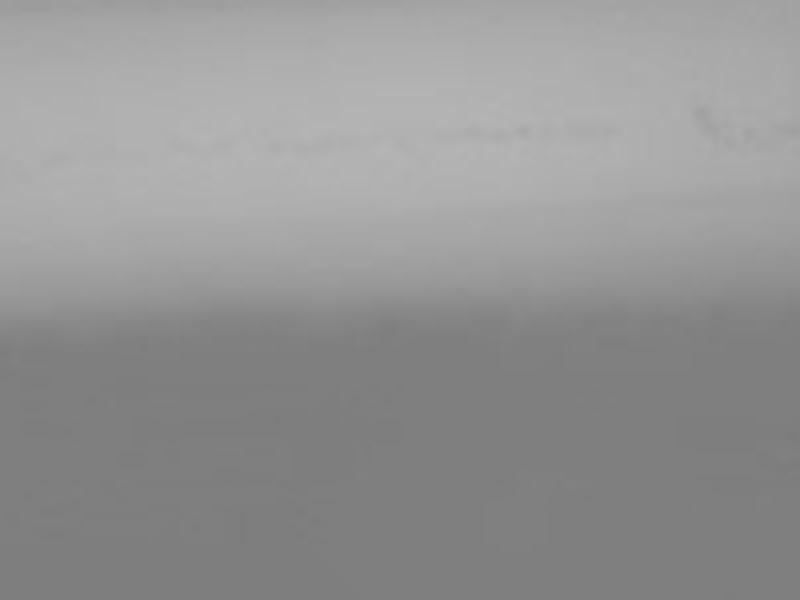defect: (696, 103, 723, 144), (515, 118, 536, 138)
